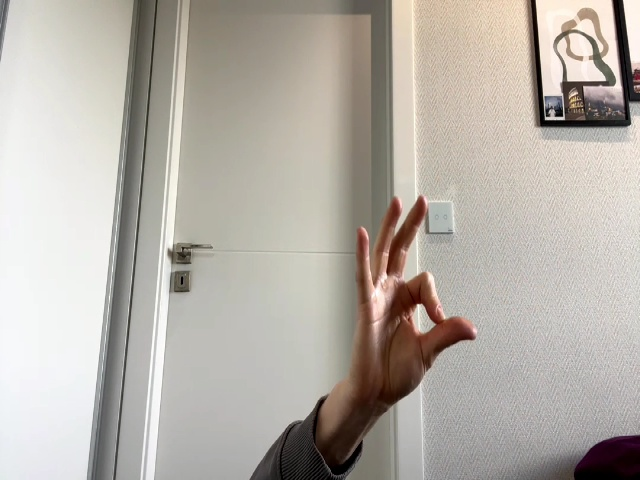S: (356, 196, 477, 412)
